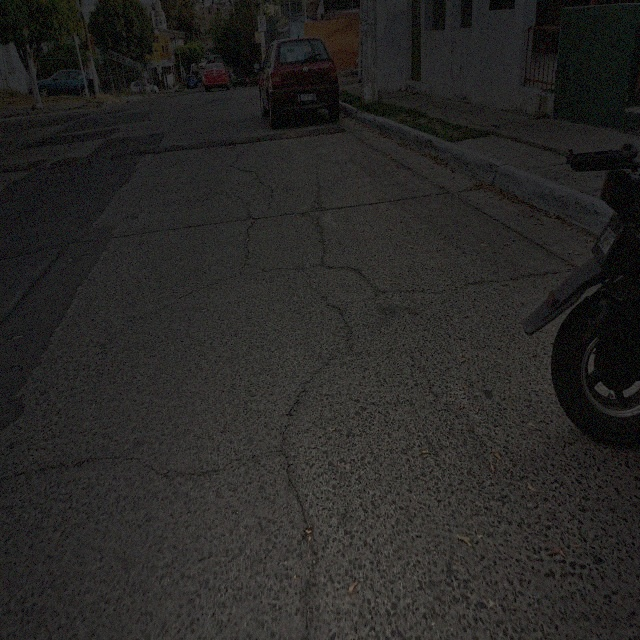pothole: (4, 332, 27, 345), (66, 253, 92, 260), (8, 365, 22, 372)
